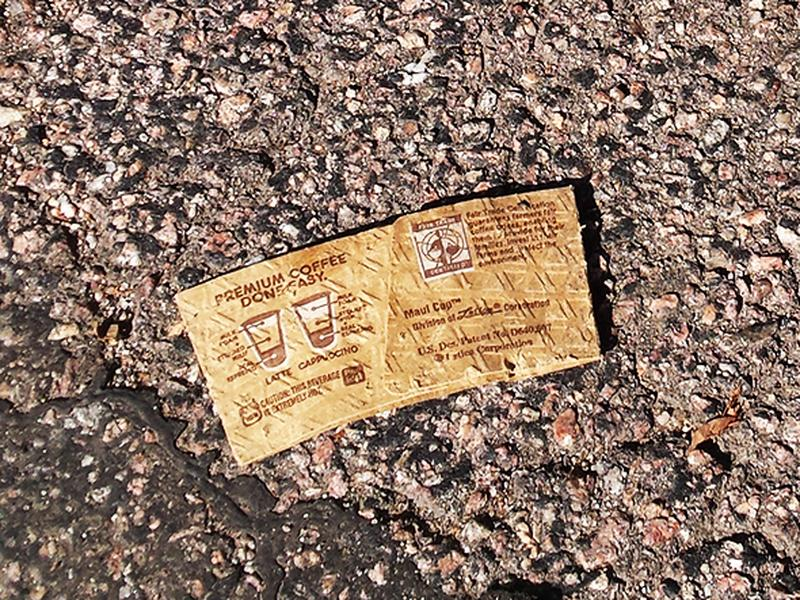cardboard: (168, 186, 617, 471)
